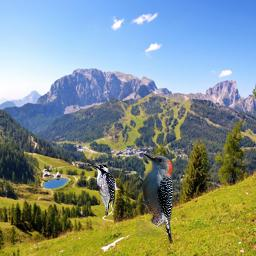Woodpecker: (136, 151, 173, 244), (93, 164, 115, 216)
